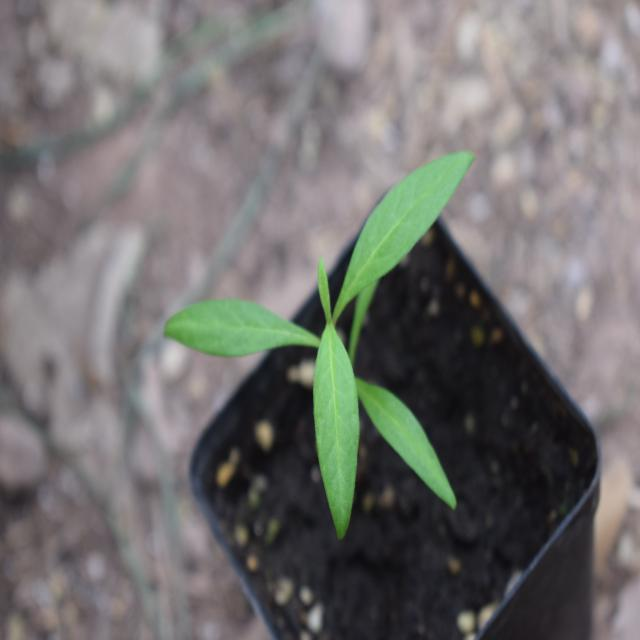white_smart_weed: (140, 139, 511, 540)
